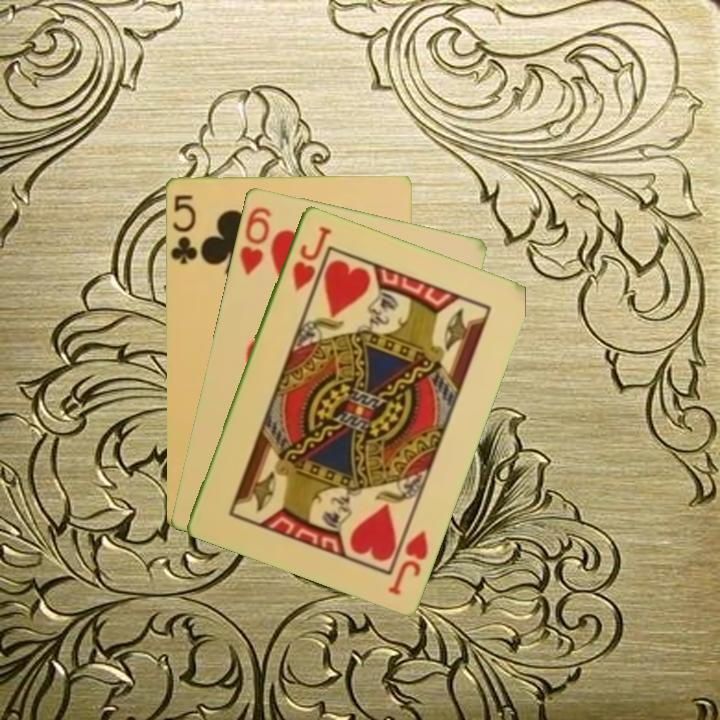5c: (168, 191, 203, 267)
6h: (235, 203, 274, 278)
Jh: (384, 526, 431, 597), (288, 222, 334, 294)
